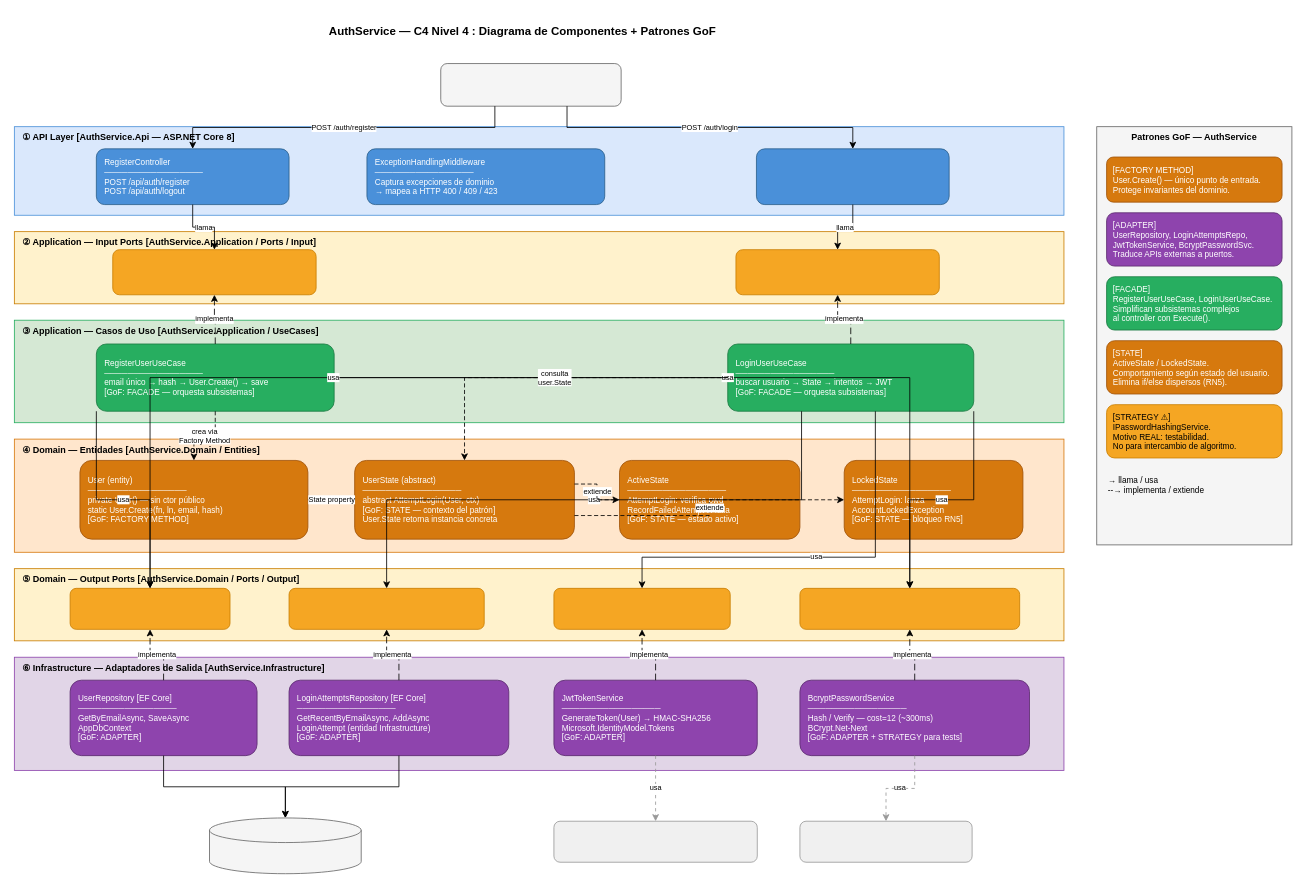
Image size: 1306x888. Some labels were removed from this diagram. The centre of each missing label's shape, as x and y in pixels:
Frontend APP [Vue 3 / SPA]: [530,84]
LoginController ───────────────── POST /api/auth/login POST /api/auth/logout: [852,176]
PostgreSQL: [285,845]
«ext. library» BCrypt.Net-Next: [885,841]
«ext. library» Microsoft.IdentityModel.Tokens: [655,841]
«interface» IJwtTokenService: [641,608]
«interface» ILoginAttemptsRepository: [386,608]
«interface» ILoginUserUseCase ───────────────── Execute(LoginRequest): [837,272]
«interface» IPasswordHashingService [GoF: STRATEGY — intercambiable en tests]: [909,608]
«interface» IRegisterUserUseCase ───────────────── Execute(RegisterUserRequest): [214,272]
«interface» IUserRepository: [149,608]
